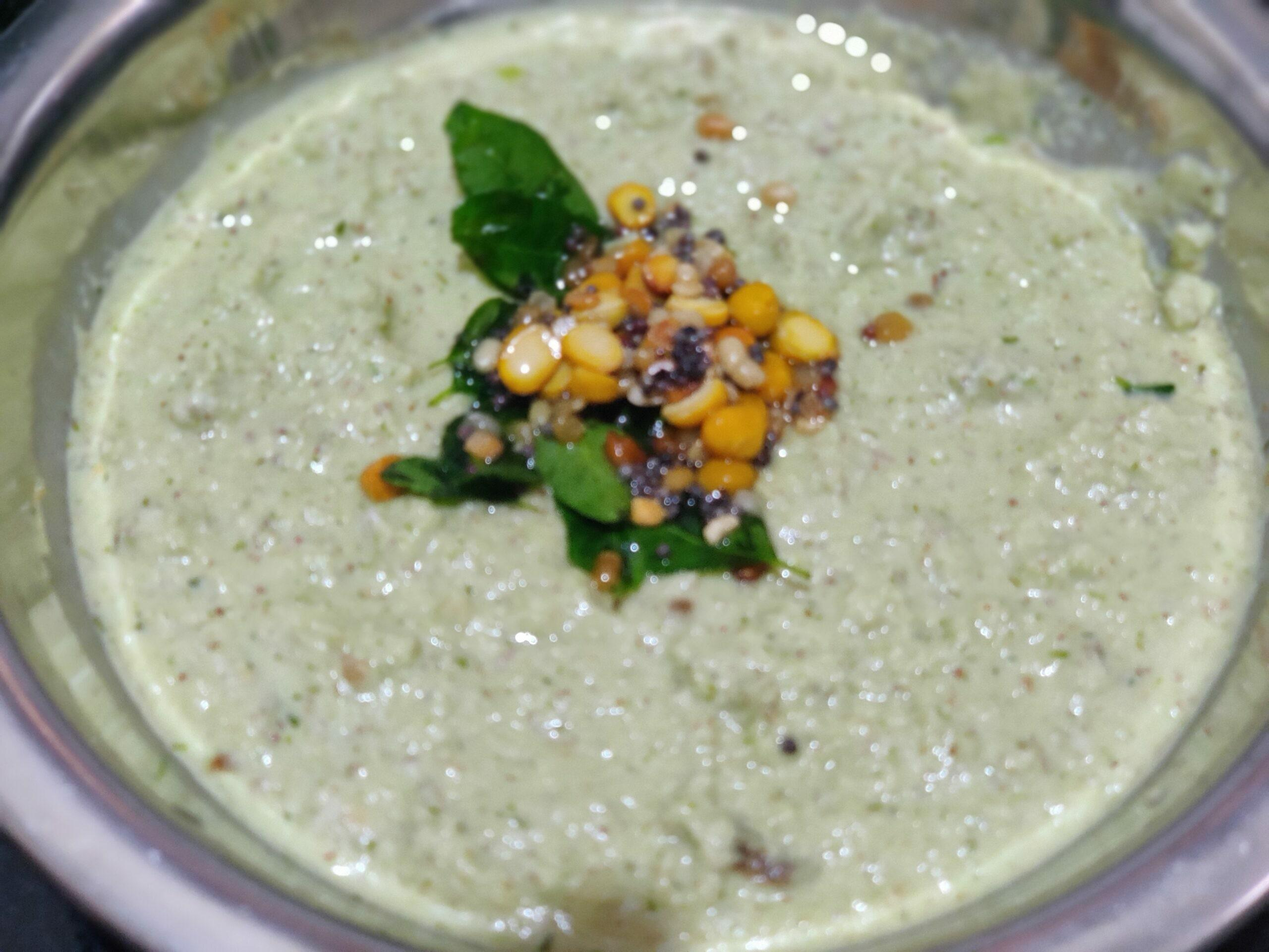CoconutChutney: (107, 0, 1269, 952)
